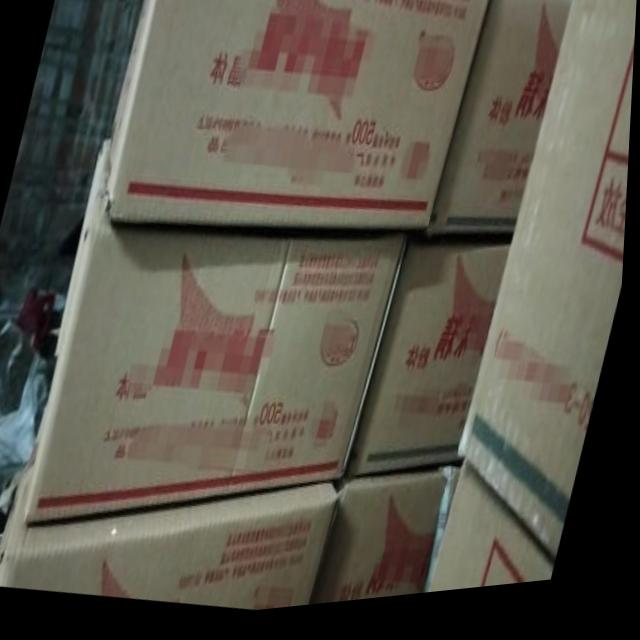box: (29, 138, 412, 524), (463, 0, 638, 570), (111, 0, 492, 240), (0, 464, 345, 615), (350, 249, 514, 485), (429, 0, 573, 246), (317, 472, 469, 612), (435, 474, 563, 602)
